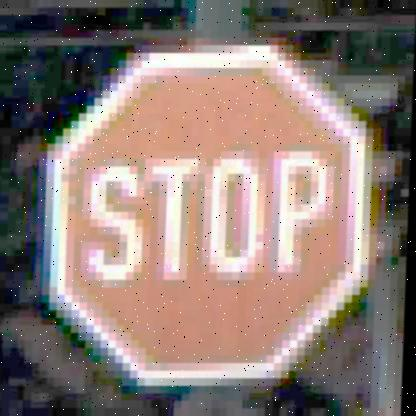Stop Sign: (42, 44, 382, 387)
